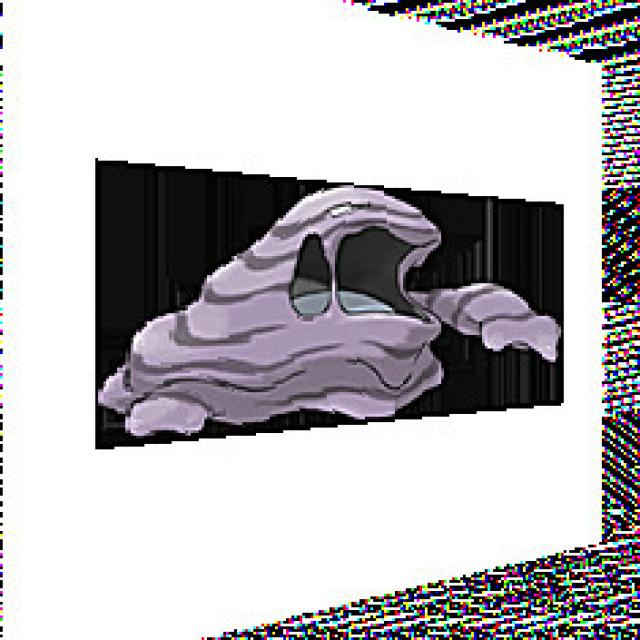Muk: (170, 192, 440, 407)
